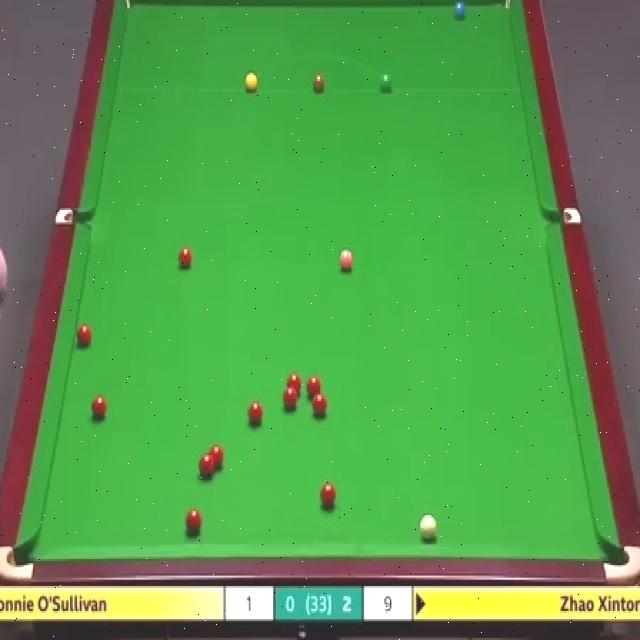blue-ball: (452, 0, 467, 23)
brown-ball: (312, 74, 326, 95)
green-ball: (379, 73, 393, 95)
pink-ball: (337, 245, 356, 274)
red-ball: (88, 392, 108, 422), (185, 509, 204, 537), (197, 454, 216, 480), (319, 483, 336, 511), (75, 324, 93, 350), (248, 403, 265, 428), (177, 246, 194, 270), (312, 392, 328, 417), (282, 387, 298, 412), (285, 372, 303, 394), (209, 444, 226, 467), (306, 376, 322, 397)
white-ball: (418, 513, 438, 541)
yellow-ball: (244, 72, 258, 94)
